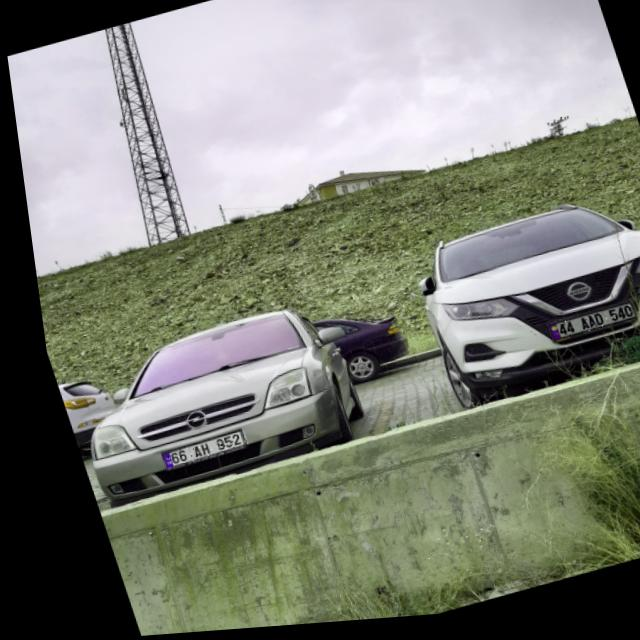license_plate: (146, 433, 238, 471), (538, 312, 627, 349)
